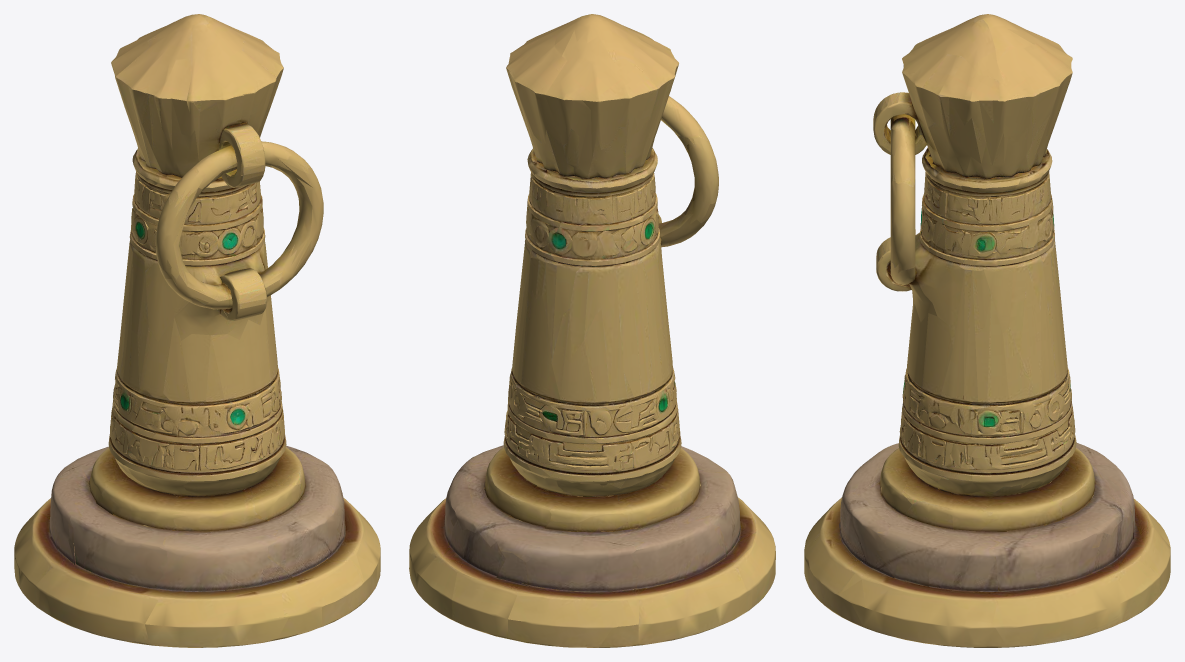
File: et_chainpost.glb
The picture shows the model from 3 angles, left to right: view 1: azimuth 30°, elevation 25°; view 2: azimuth 150°, elevation 25°; view 3: azimuth 270°, elevation 25°; orthographic projection.
Bounding box in the file's own units: 1.13 × 1.9 × 1.13.
Materials: 1 (1 with a texture image).
